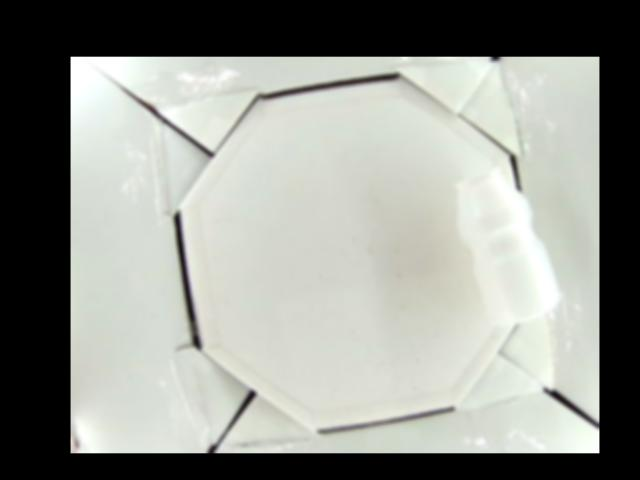Bottle: (458, 172, 553, 325)
